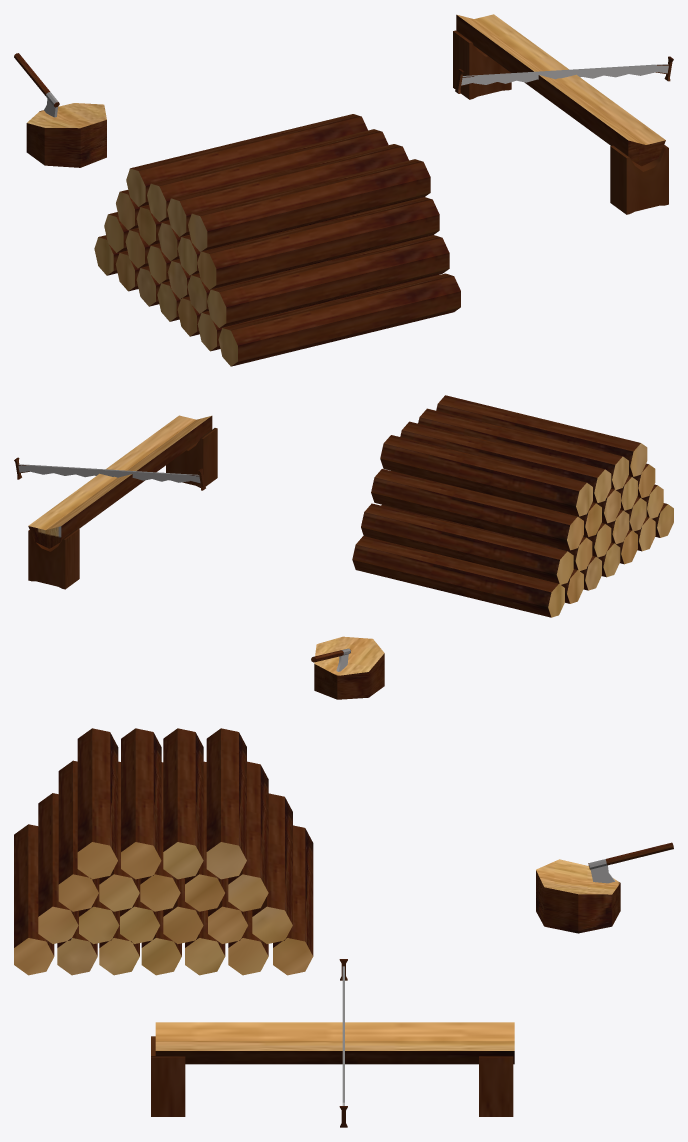
Rendered from LumberYard.fbx.
The picture shows the model from 3 angles, top to bottom: view 1: azimuth 30°, elevation 25°; view 2: azimuth 150°, elevation 25°; view 3: azimuth 270°, elevation 25°; orthographic projection. The views are drawn at different scales.
Visible parts, largest first — view 1: woord_stack, pCylinder23, wood_stump, pCube1, pCube3, pCube2, ax; view 2: woord_stack, pCylinder23, wood_stump, pCube2, pCube3, pCube1; view 3: woord_stack, pCylinder23, wood_stump, pCube1, pCube2, ax, pCube3.
Boxes of the visible parts, x1,y1,x2,y2 form: woord_stack: (94,114,460,366); pCylinder23: (456,14,665,166); wood_stump: (26,103,106,167); pCube1: (610,145,668,214); pCube3: (455,56,673,93); pCube2: (453,30,511,99); ax: (14,53,59,117); woord_stack: (352,395,673,617); pCylinder23: (28,415,212,548); wood_stump: (314,636,384,699); pCube2: (28,528,79,589); pCube3: (14,457,205,490); pCube1: (166,428,217,487); woord_stack: (14,728,313,975); pCylinder23: (155,1022,514,1064); wood_stump: (536,859,620,933); pCube1: (151,1036,185,1116); pCube2: (479,1056,513,1116); ax: (588,842,673,883); pCube3: (339,959,347,1127).
Bounding box in the file's own units: 4.11 × 0.8624 × 3.8.
